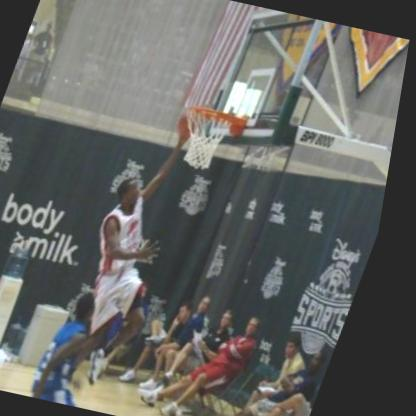basketball: (176, 108, 205, 140)
rim: (187, 102, 244, 127)
